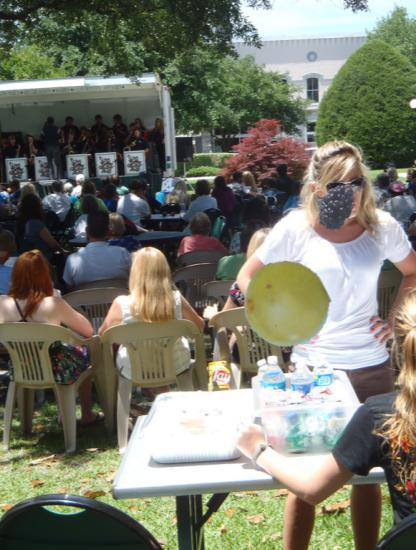Grape: (242, 260, 331, 349)
Mulberry: (306, 176, 360, 230)
